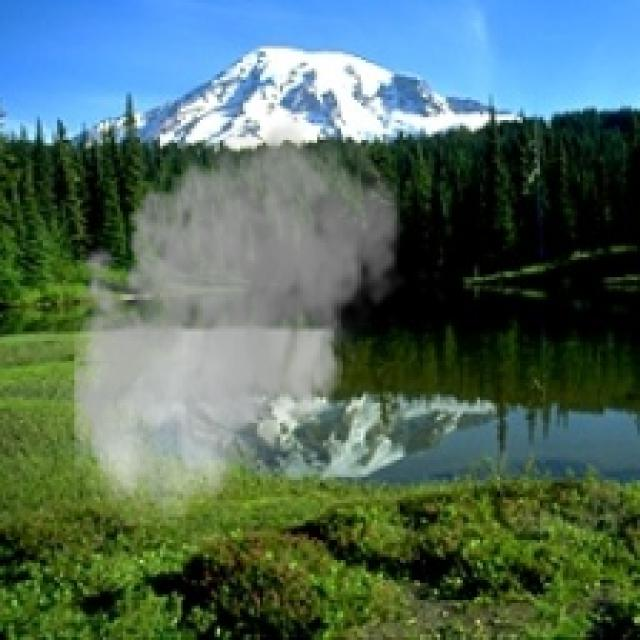smoke: (60, 108, 409, 526)
